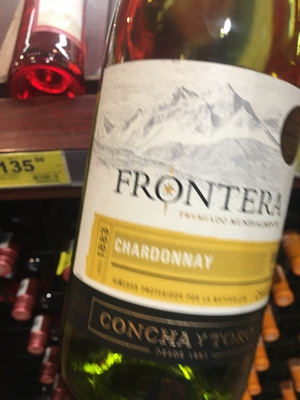frontera chardonnay: (55, 24, 298, 400)
